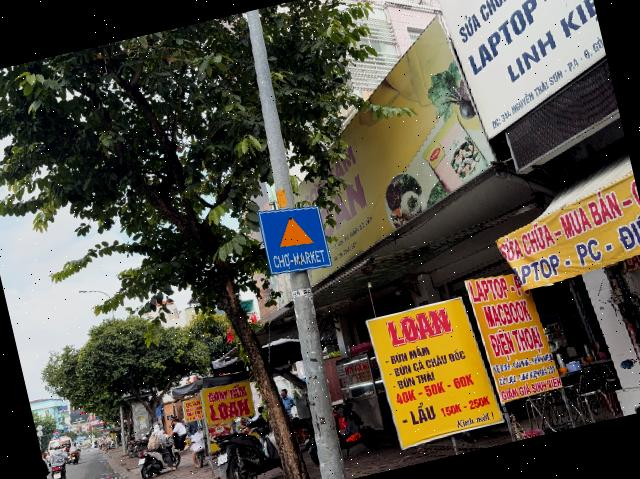khu-vuc-cho-phia-truoc: (255, 197, 332, 280)
